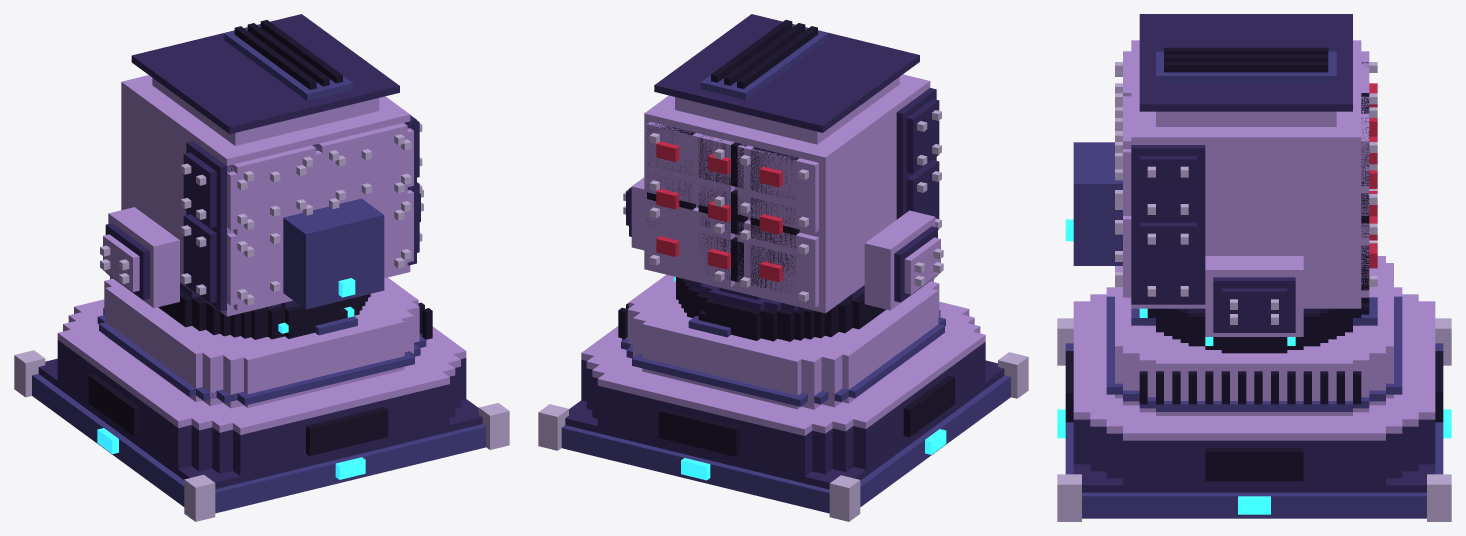
The model's file is missile-pod.lg.glb.
The picture shows the model from 3 angles, left to right: view 1: azimuth 30°, elevation 25°; view 2: azimuth 150°, elevation 25°; view 3: azimuth 270°, elevation 25°; orthographic projection. The views are drawn at different scales.
Parts seen in each view (by area): view 1: missile-pod.lg; view 2: missile-pod.lg; view 3: missile-pod.lg.
Boxes of the visible parts, x1,y1,x2,y2 form: missile-pod.lg: (14, 14, 509, 521); missile-pod.lg: (538, 14, 1028, 521); missile-pod.lg: (1057, 14, 1451, 521).
Size of the model in its own units: 3 by 3.31 by 3.
